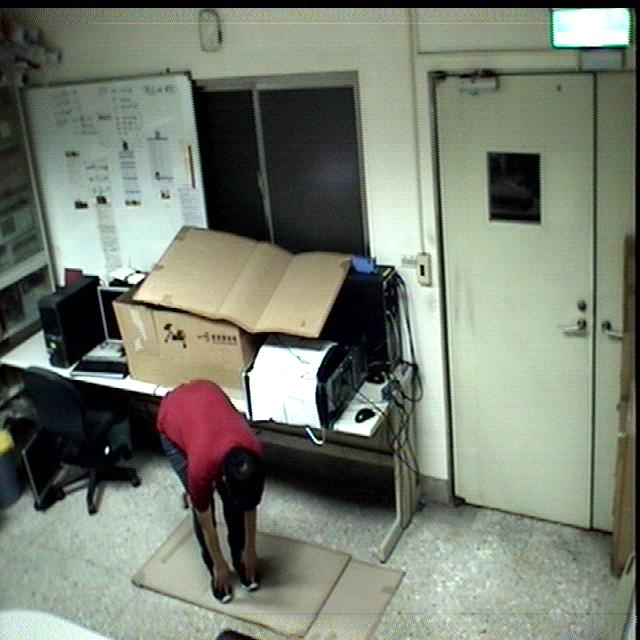bend: (152, 376, 269, 608)
